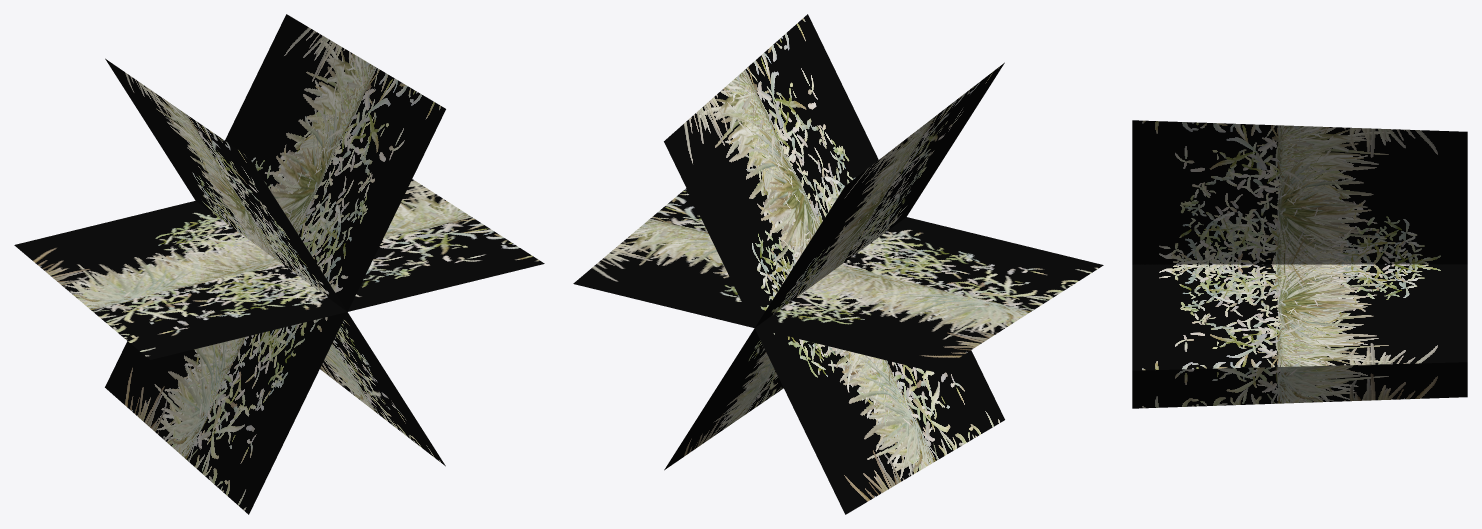
Rendered from GrassCard_Dry.glb.
3 views of the same model, side by side, from view 1: azimuth 30°, elevation 25°; view 2: azimuth 150°, elevation 25°; view 3: azimuth 270°, elevation 25° (orthographic). The views are drawn at different scales.
Visible parts, largest first — view 1: GrassCard_Dry; view 2: GrassCard_Dry; view 3: GrassCard_Dry.
Part boxes in pixels (x1,y1,x2,y2): GrassCard_Dry: (14, 14, 544, 514); GrassCard_Dry: (573, 14, 1103, 514); GrassCard_Dry: (1132, 120, 1467, 408).
Bounding box in the file's own units: 0.18 × 0.1559 × 0.12.
1 material, 1 textured.
